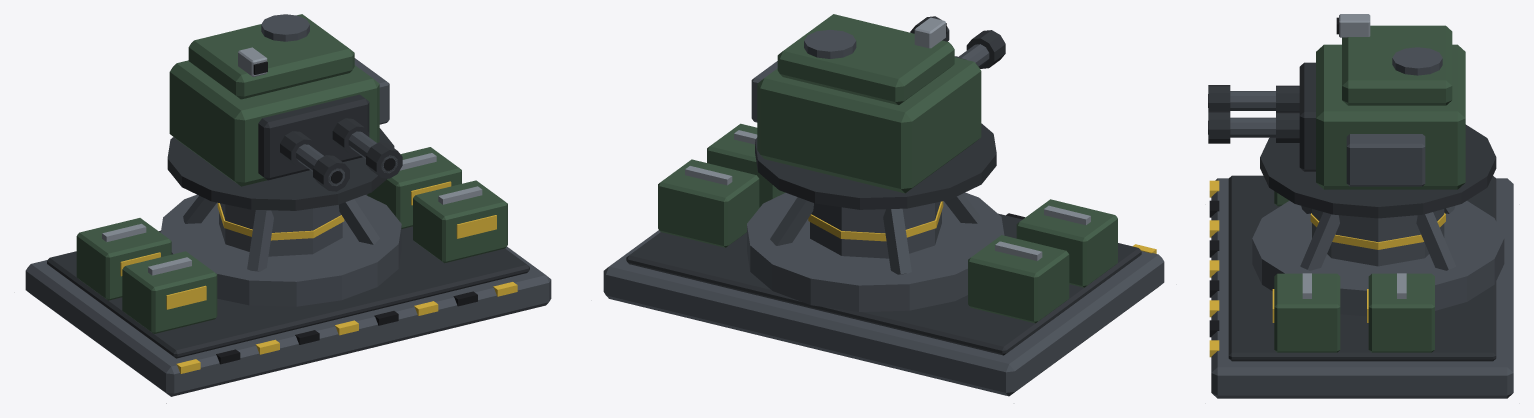
Rendered from tourelle_lourde.glb.
3 views of the same model, side by side, from view 1: azimuth 30°, elevation 25°; view 2: azimuth 150°, elevation 25°; view 3: azimuth 270°, elevation 25° (orthographic). The views are drawn at different scales.
Visible parts, largest first — view 1: pieces_acier_sombre.006, tourelle_vert_fonce.002, pieces_vert_fonce.002, tourelle_fonte.004, couronne.006, pieces_fonte.006, pieces_jaune.004, fut.006, tourelle_acier_sombre.006, pieces_acier.006, pieces_noir.004, tourelle_acier.004; view 2: tourelle_vert_fonce.002, pieces_acier_sombre.006, pieces_vert_fonce.002, couronne.006, pieces_fonte.006, tourelle_fonte.004, fut.006, tourelle_acier_sombre.006, pieces_acier.006, pieces_jaune.004, tourelle_acier.004; view 3: pieces_acier_sombre.006, tourelle_vert_fonce.002, pieces_fonte.006, tourelle_fonte.004, couronne.006, pieces_vert_fonce.002, tourelle_acier_sombre.006, fut.006, pieces_jaune.004, tourelle_acier.004, pieces_noir.004, pieces_acier.006.
Part boxes in pixels (<box>): pieces_acier_sombre.006: <box>25,195,551,396</box>; tourelle_vert_fonce.002: <box>169,14,379,186</box>; pieces_vert_fonce.002: <box>76,147,507,333</box>; tourelle_fonte.004: <box>167,94,402,210</box>; couronne.006: <box>160,194,401,306</box>; pieces_fonte.006: <box>47,194,529,358</box>; pieces_jaune.004: <box>120,181,517,373</box>; fut.006: <box>219,203,342,256</box>; tourelle_acier_sombre.006: <box>261,14,397,186</box>; pieces_acier.006: <box>102,153,482,275</box>; pieces_noir.004: <box>216,291,477,364</box>; tourelle_acier.004: <box>238,47,267,76</box>; tourelle_vert_fonce.002: <box>757,14,981,193</box>; pieces_acier_sombre.006: <box>603,193,1164,396</box>; pieces_vert_fonce.002: <box>658,123,1117,323</box>; couronne.006: <box>747,192,1004,311</box>; pieces_fonte.006: <box>626,213,1141,355</box>; tourelle_fonte.004: <box>755,16,1005,209</box>; fut.006: <box>810,201,941,258</box>; tourelle_acier_sombre.006: <box>751,29,989,122</box>; pieces_acier.006: <box>685,130,1090,260</box>; pieces_jaune.004: <box>808,201,1156,253</box>; tourelle_acier.004: <box>914,17,945,48</box>; pieces_acier_sombre.006: <box>1211,178,1513,398</box>; tourelle_vert_fonce.002: <box>1316,25,1465,189</box>; pieces_fonte.006: <box>1228,175,1496,361</box>; tourelle_fonte.004: <box>1208,62,1496,218</box>; couronne.006: <box>1252,200,1504,316</box>; pieces_vert_fonce.002: <box>1274,191,1434,352</box>; tourelle_acier_sombre.006: <box>1230,47,1442,186</box>; fut.006: <box>1312,209,1444,266</box>; pieces_jaune.004: <box>1209,180,1445,357</box>; tourelle_acier.004: <box>1339,14,1370,37</box>; pieces_noir.004: <box>1209,200,1219,337</box>; pieces_acier.006: <box>1302,273,1406,298</box>.
Bounding box in the file's own units: 1.5 × 0.935 × 1.
